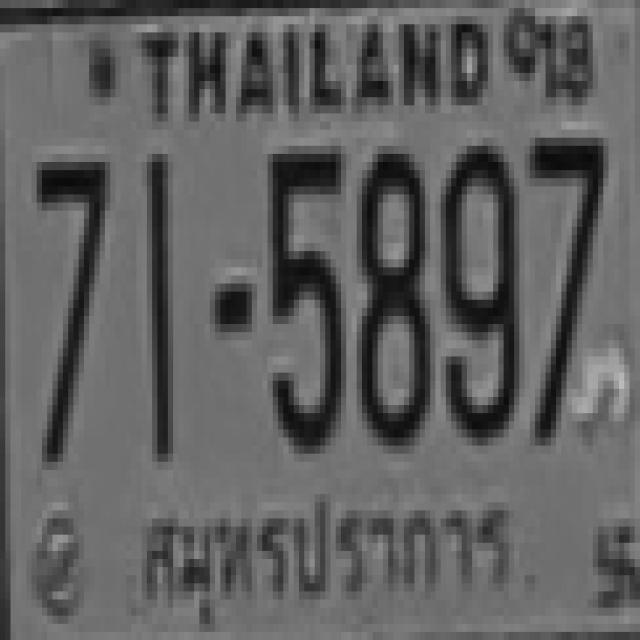1: (144, 154, 170, 454)
5: (268, 146, 341, 445)
7: (525, 130, 603, 438), (31, 154, 105, 454)
8: (357, 146, 425, 437)
9: (436, 138, 514, 437)
SamutPrakan: (133, 492, 527, 624)
